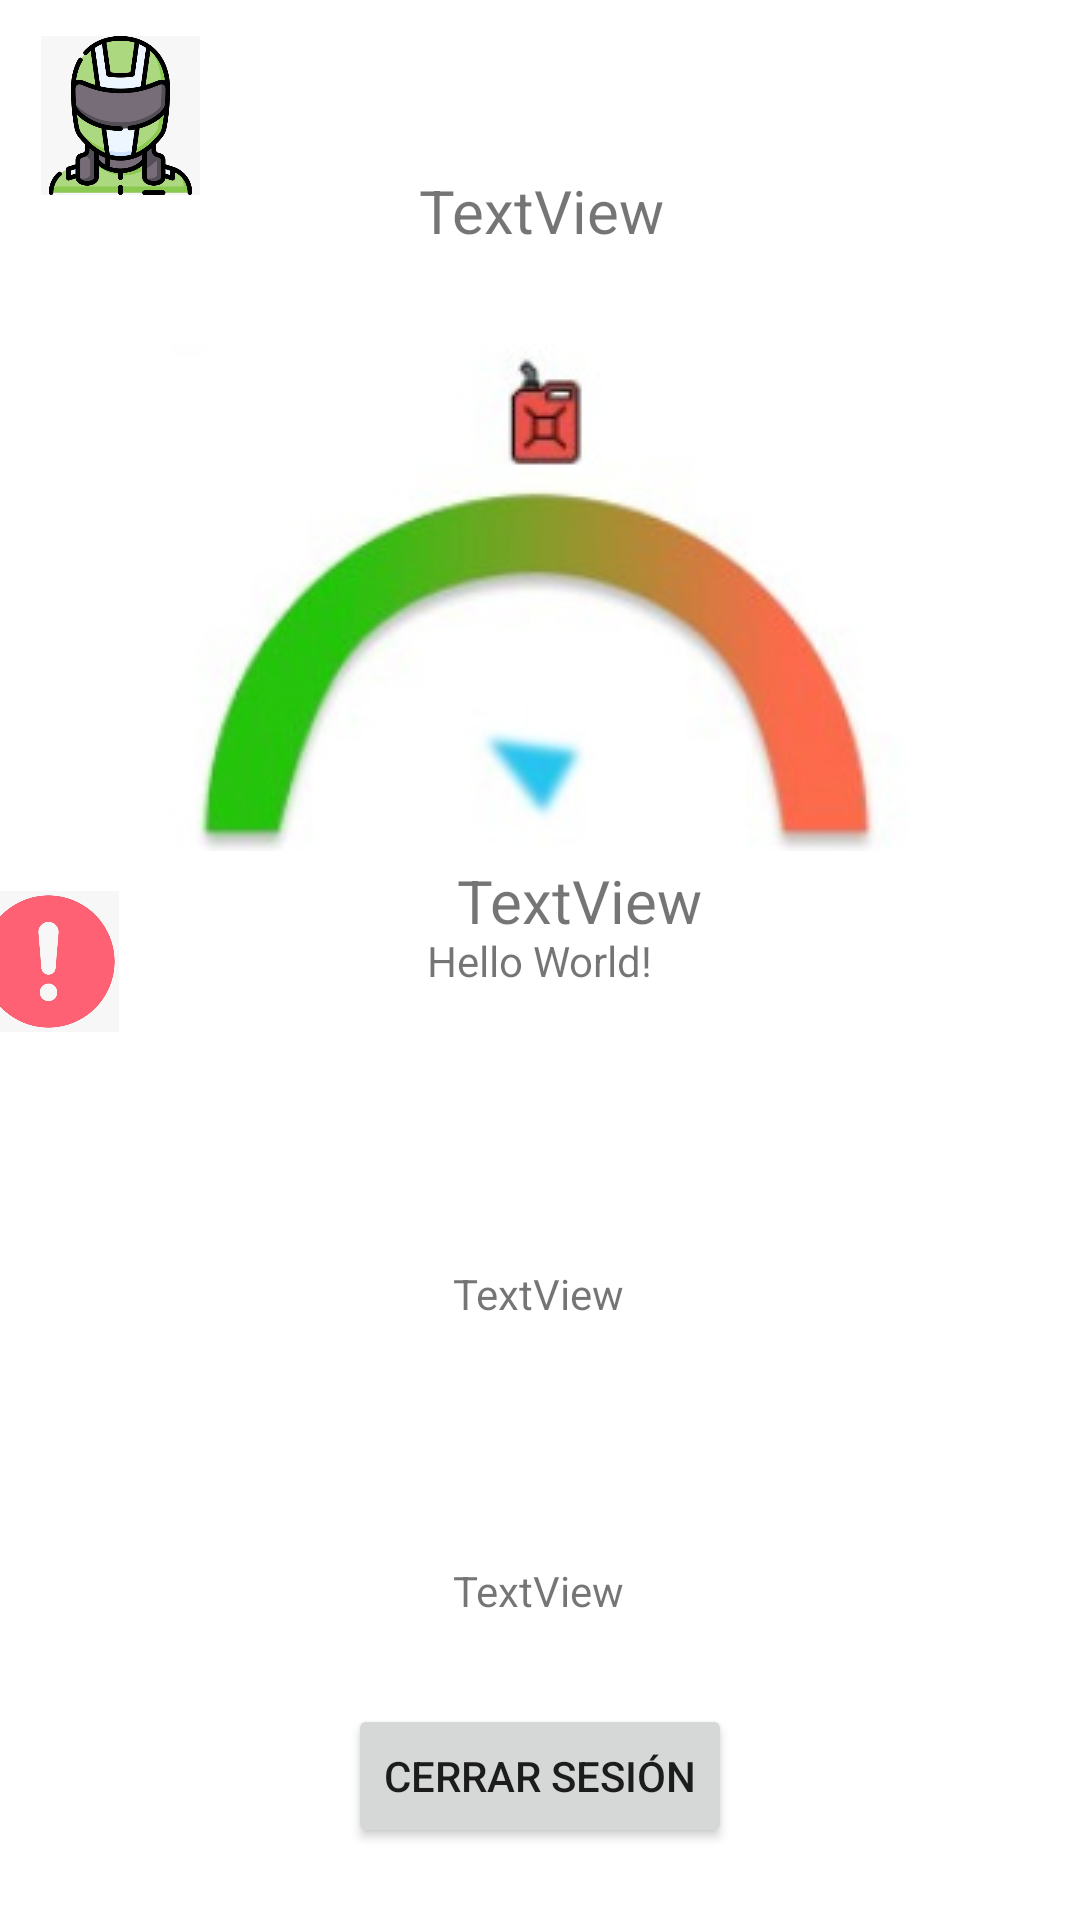

Screen size 1080px x 1920px. Icon name, then its center in pixels as [x,y]:
user: [120,115]
